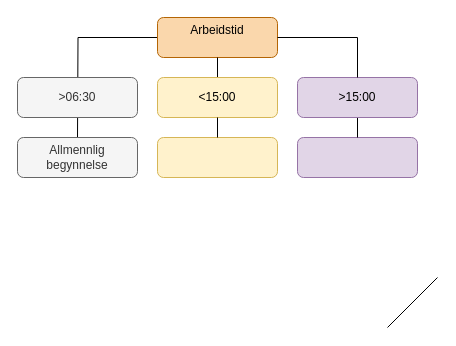
Image size: 456x346. Some labels were removed from this diagram. The centre of each missing label's shape, as x and y in pixels:
Allmennlig overtid: [357,157]
Allmennlig slutt: [217,157]
